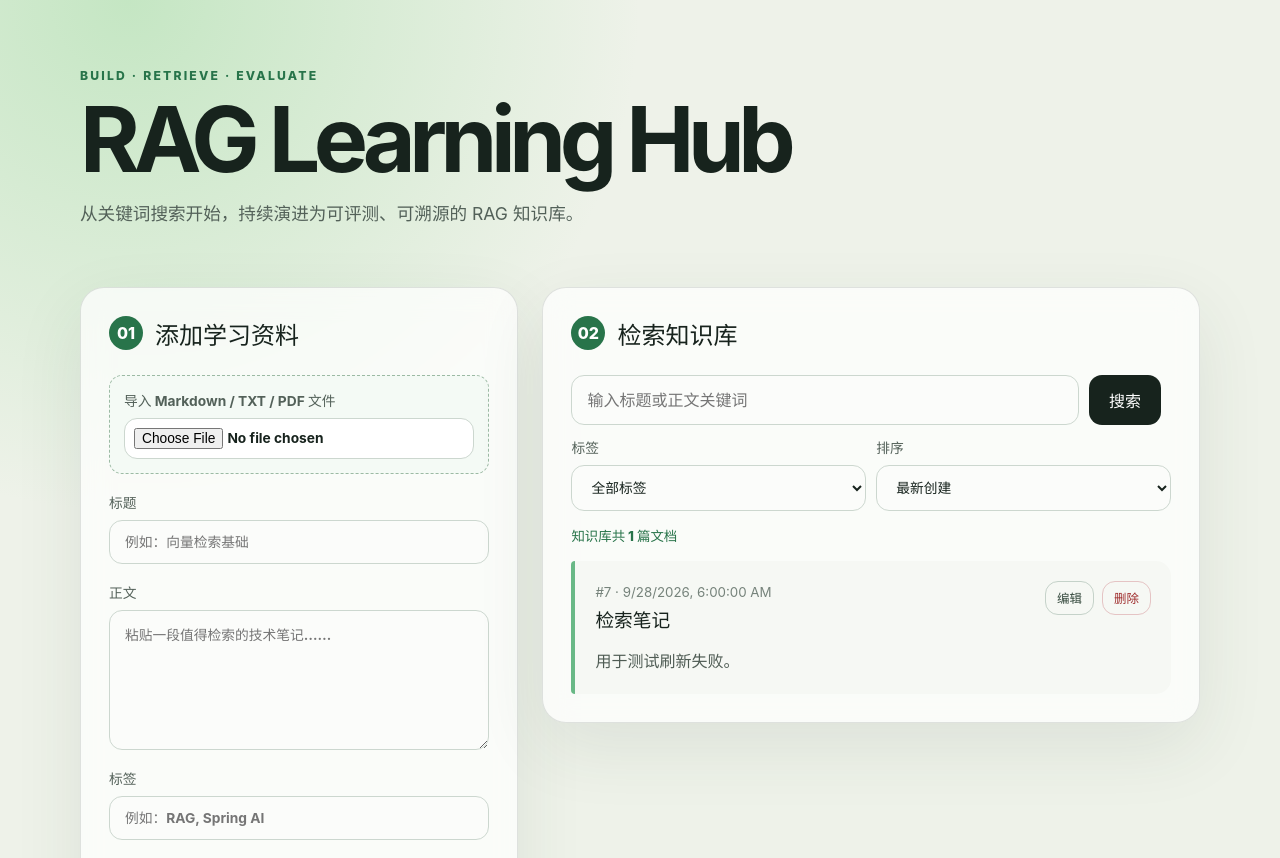
Test: App › keeps the refresh error visible after a successful delete
Click the button with aria-label "删除检索笔记" at (1126, 598), box [1102,581,1151,615]
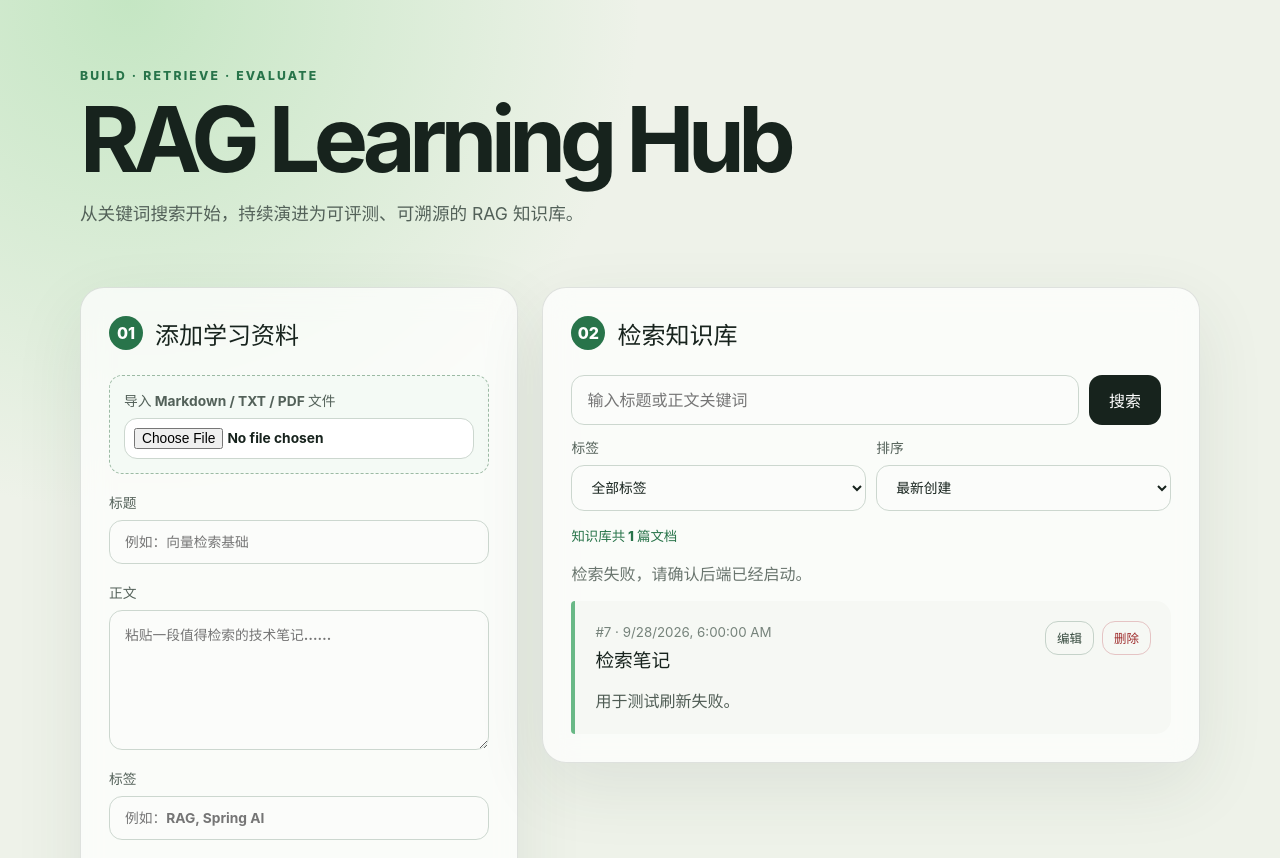
Expected: the text "检索失败，请确认后端已经启动。" is shown, [571,564,811,584]
